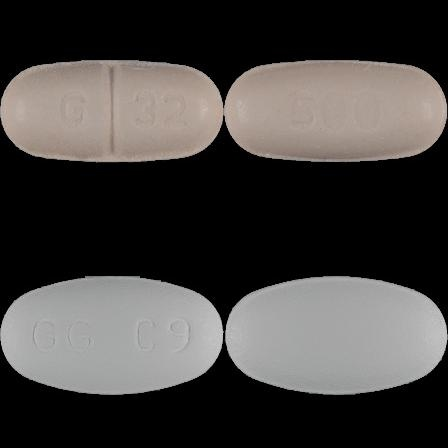67296-0406: (0, 0, 224, 224)
